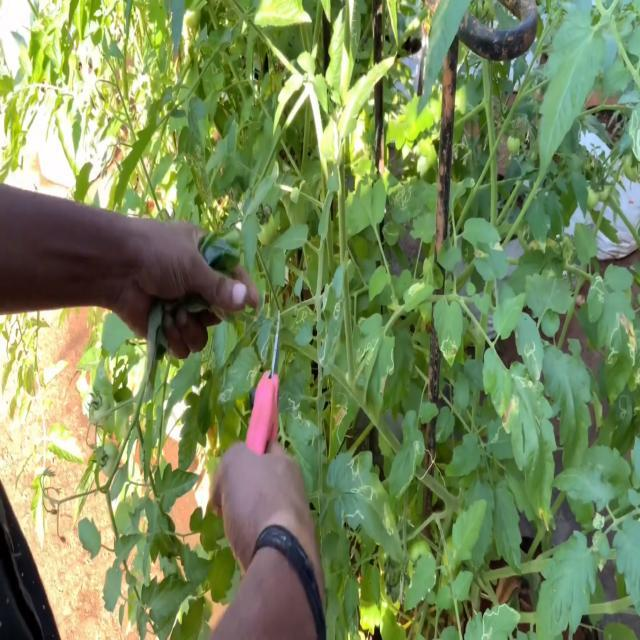Tomato target spot leaf: (482, 347, 558, 532), (326, 450, 404, 569), (586, 262, 637, 405), (357, 312, 395, 428), (390, 409, 426, 514), (217, 344, 260, 404), (514, 312, 544, 389), (463, 601, 520, 640), (433, 298, 463, 367), (320, 299, 344, 376), (391, 183, 423, 223), (278, 368, 306, 412), (486, 416, 514, 460), (286, 409, 319, 444), (283, 304, 317, 334), (256, 318, 274, 368), (628, 101, 640, 162), (382, 220, 399, 247), (618, 390, 631, 422)
